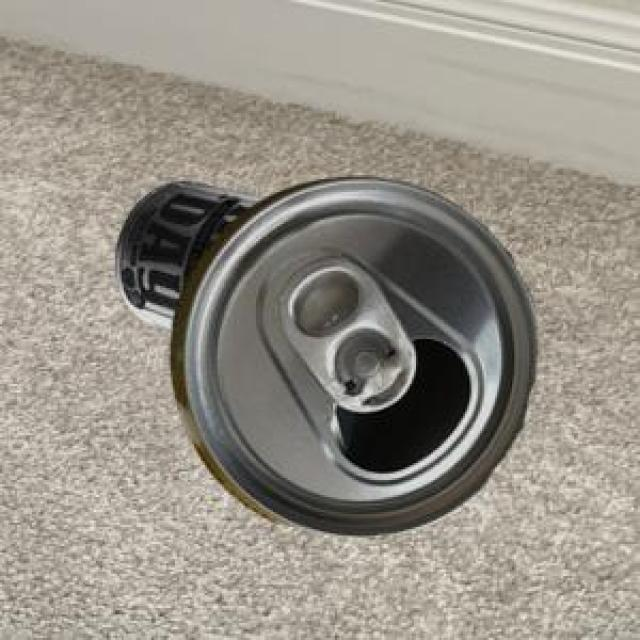Can: (167, 174, 534, 534), (112, 178, 260, 330)
